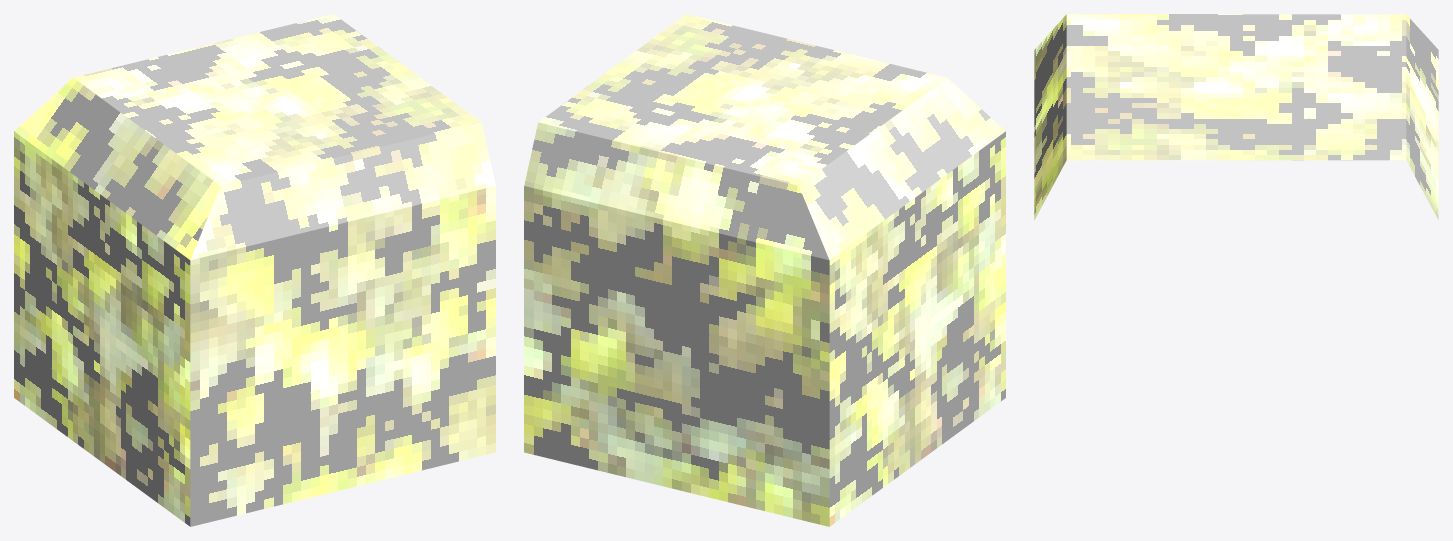
Rendered from bushend.glb.
The picture shows the model from 3 angles, left to right: view 1: azimuth 30°, elevation 25°; view 2: azimuth 150°, elevation 25°; view 3: azimuth 270°, elevation 25°; orthographic projection. The views are drawn at different scales.
Visible parts, largest first — view 1: BushEnd; view 2: BushEnd; view 3: BushEnd.
Part boxes in pixels (<box>): BushEnd: <box>14,14,495,526</box>; BushEnd: <box>524,14,1005,526</box>; BushEnd: <box>1034,14,1438,220</box>.
Bounding box in the file's own units: 2 × 2 × 2.
